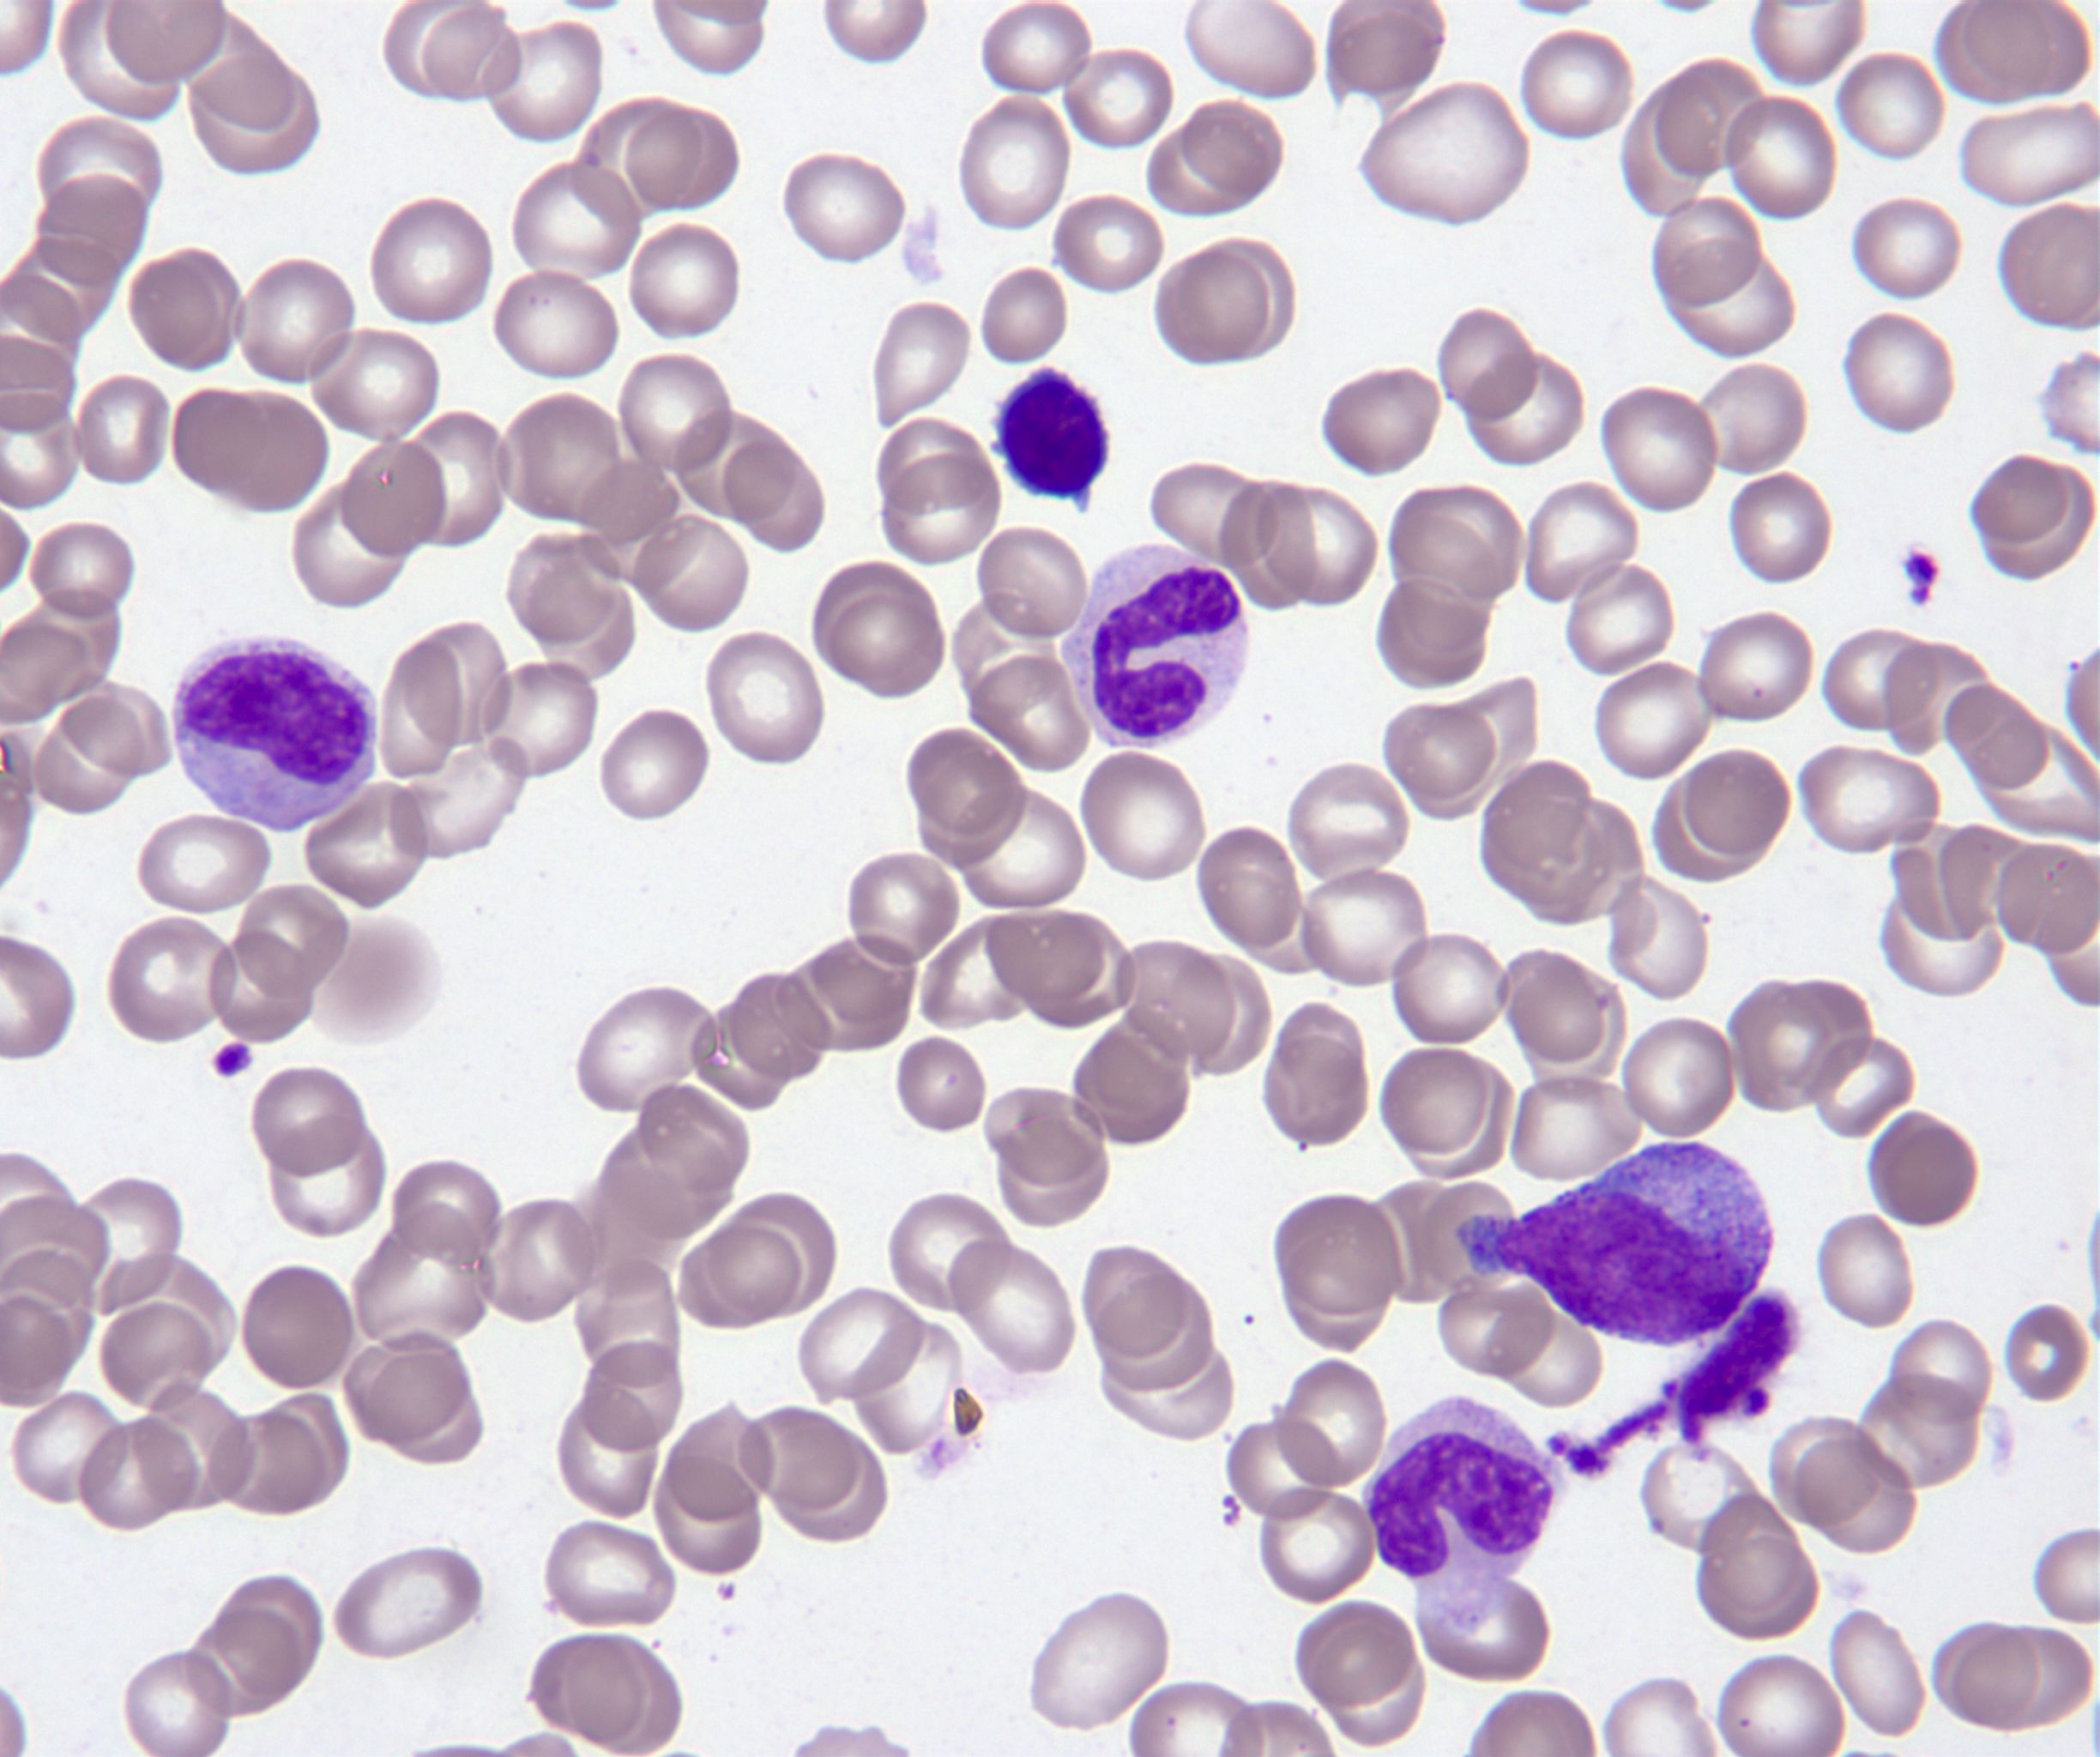3: (1456, 1145, 1772, 1347)
32: (991, 366, 1108, 515)
4: (173, 637, 377, 832)
5: (1360, 1399, 1565, 1637), (1060, 544, 1244, 745)
x: (1549, 1291, 1797, 1485)
